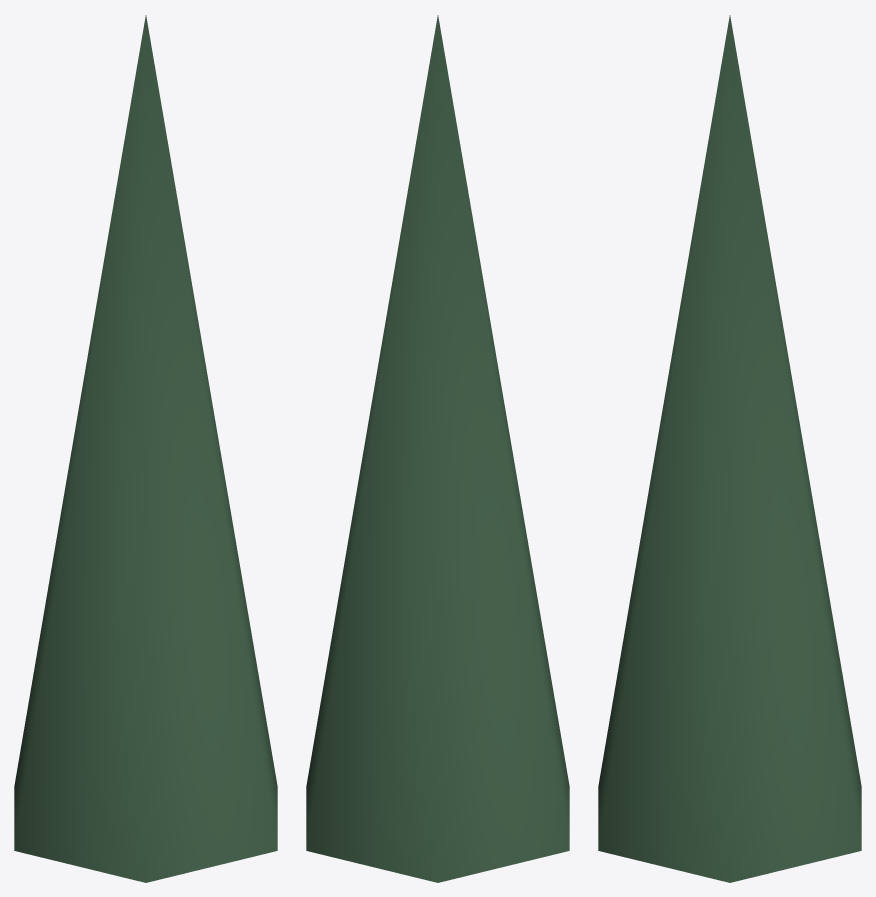
File: spruce_LOD1.glb
3 renders of one model, left to right at view 1: azimuth 30°, elevation 25°; view 2: azimuth 150°, elevation 25°; view 3: azimuth 270°, elevation 25°, orthographic.
Visible parts, largest first — view 1: Spruce; view 2: Spruce; view 3: Spruce.
Part boxes in pixels (x1=…): Spruce: x1=14, y1=15, x2=277, y2=882; Spruce: x1=306, y1=15, x2=569, y2=882; Spruce: x1=598, y1=15, x2=861, y2=882.
Bounding box in the file's own units: 5 × 14.6 × 4.33.
